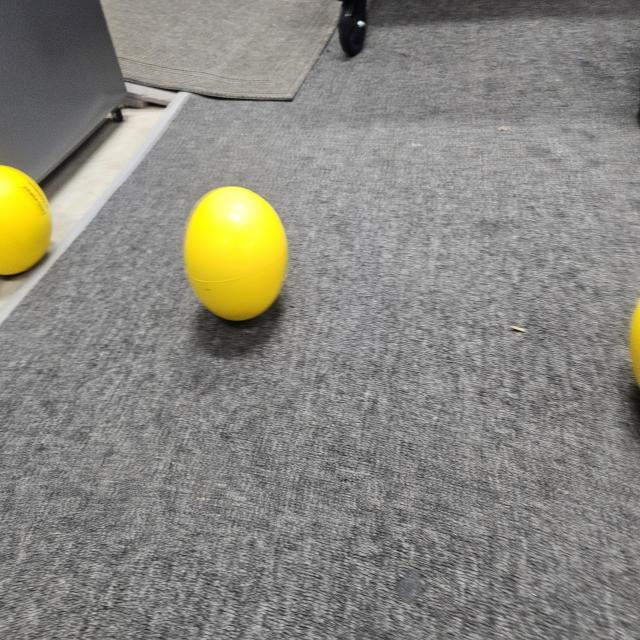Fuel: (176, 174, 294, 326), (0, 159, 56, 284)
